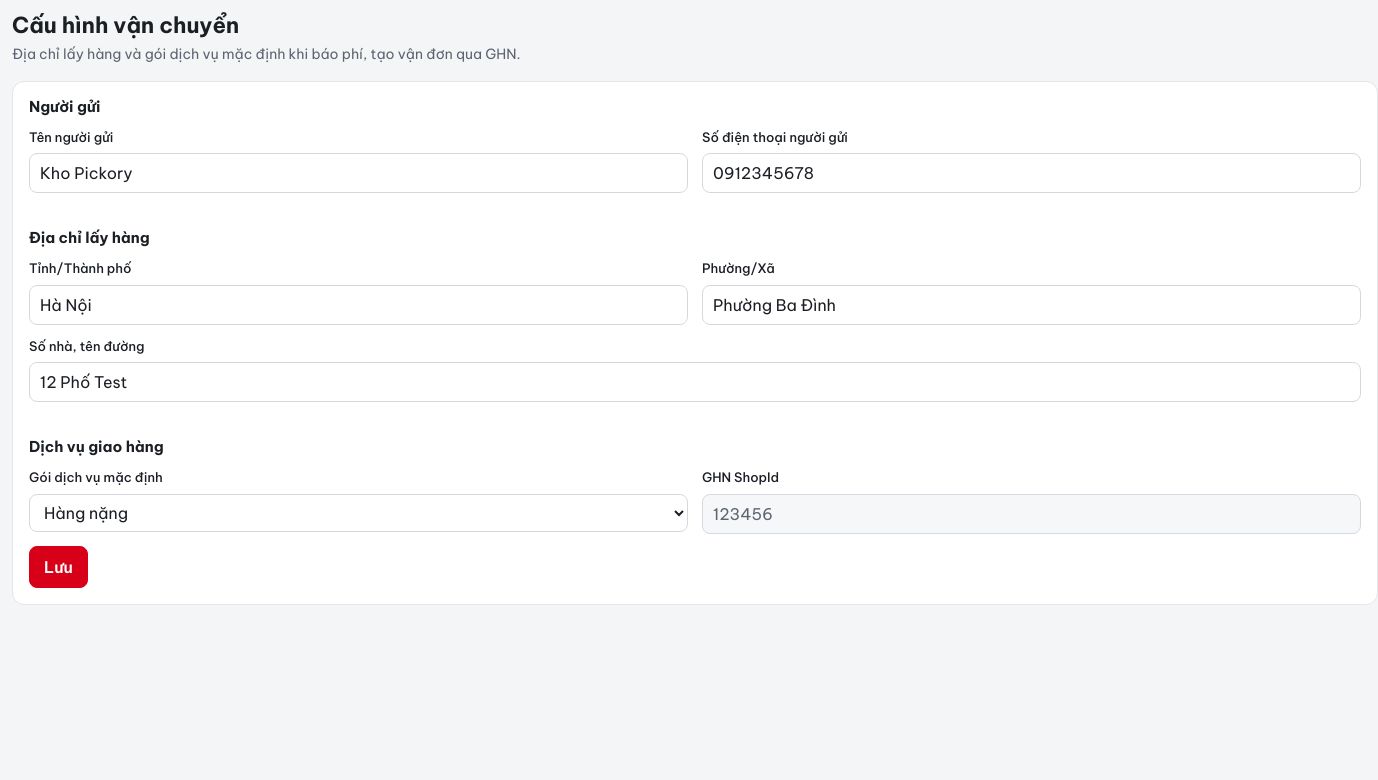
Test: ShippingSettingsPage: lưu › lỗi 400 không gắn được vào ô nào thì hiện ErrorAlert đầu form
The width and height of the screenshot is (1378, 780).
Click the submit button.
click(58, 566)  # box [29,546,88,588]
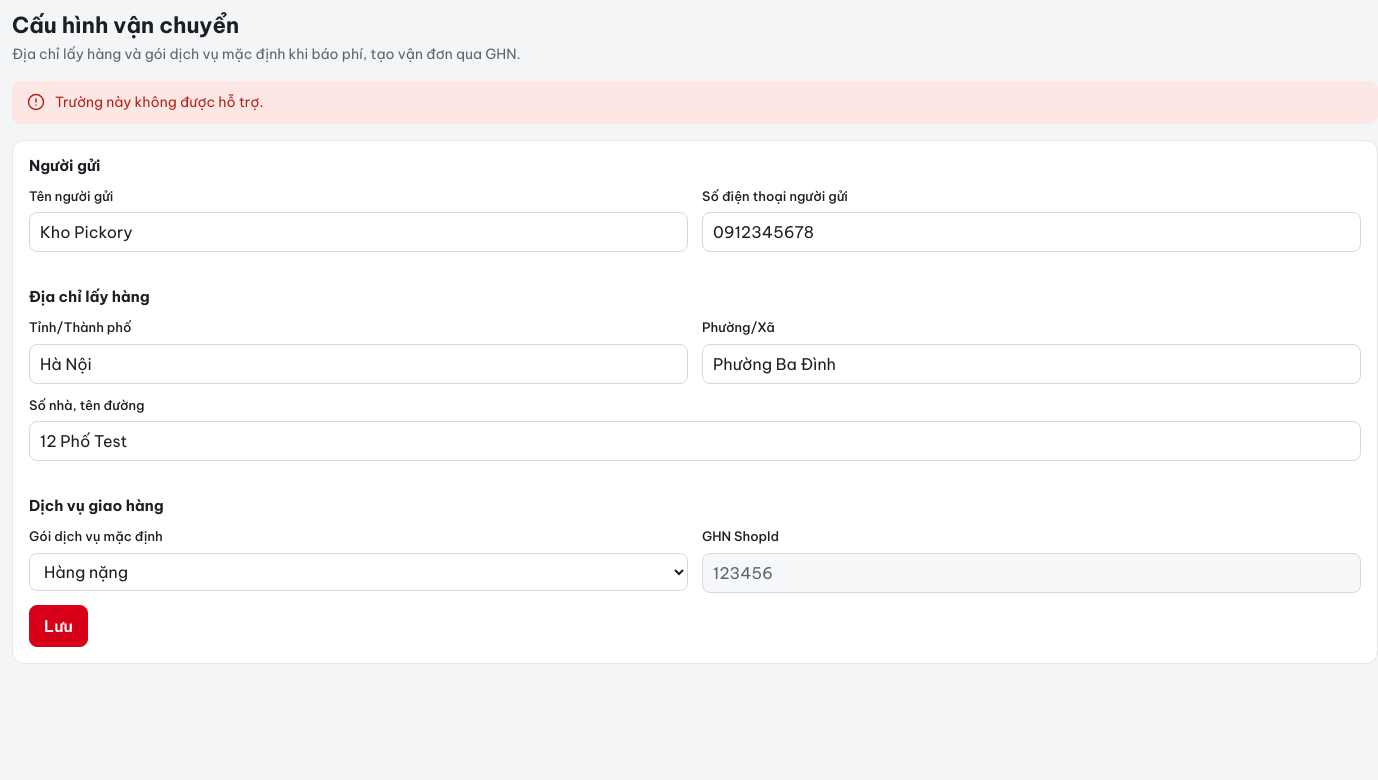
expect the message "Trường này không được hỗ trợ." is shown: met, box [12,80,1377,124]
